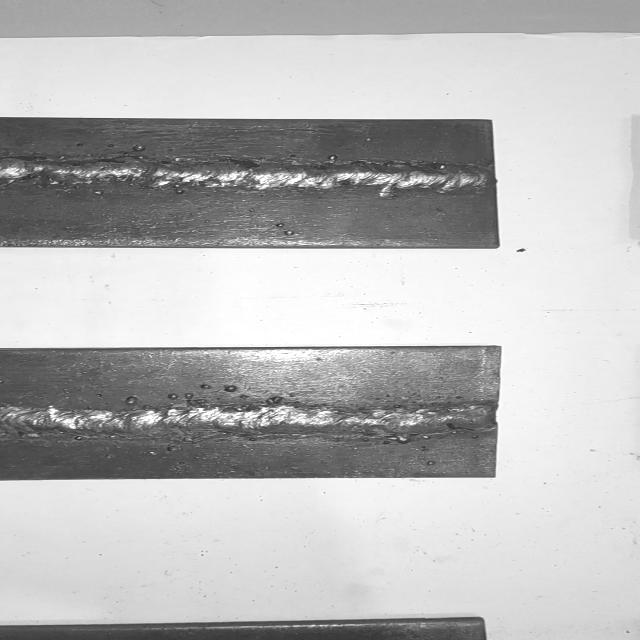Welding Line: (0, 403, 495, 440), (0, 161, 492, 189)
Workpiece: (0, 341, 518, 482), (0, 116, 506, 250)
